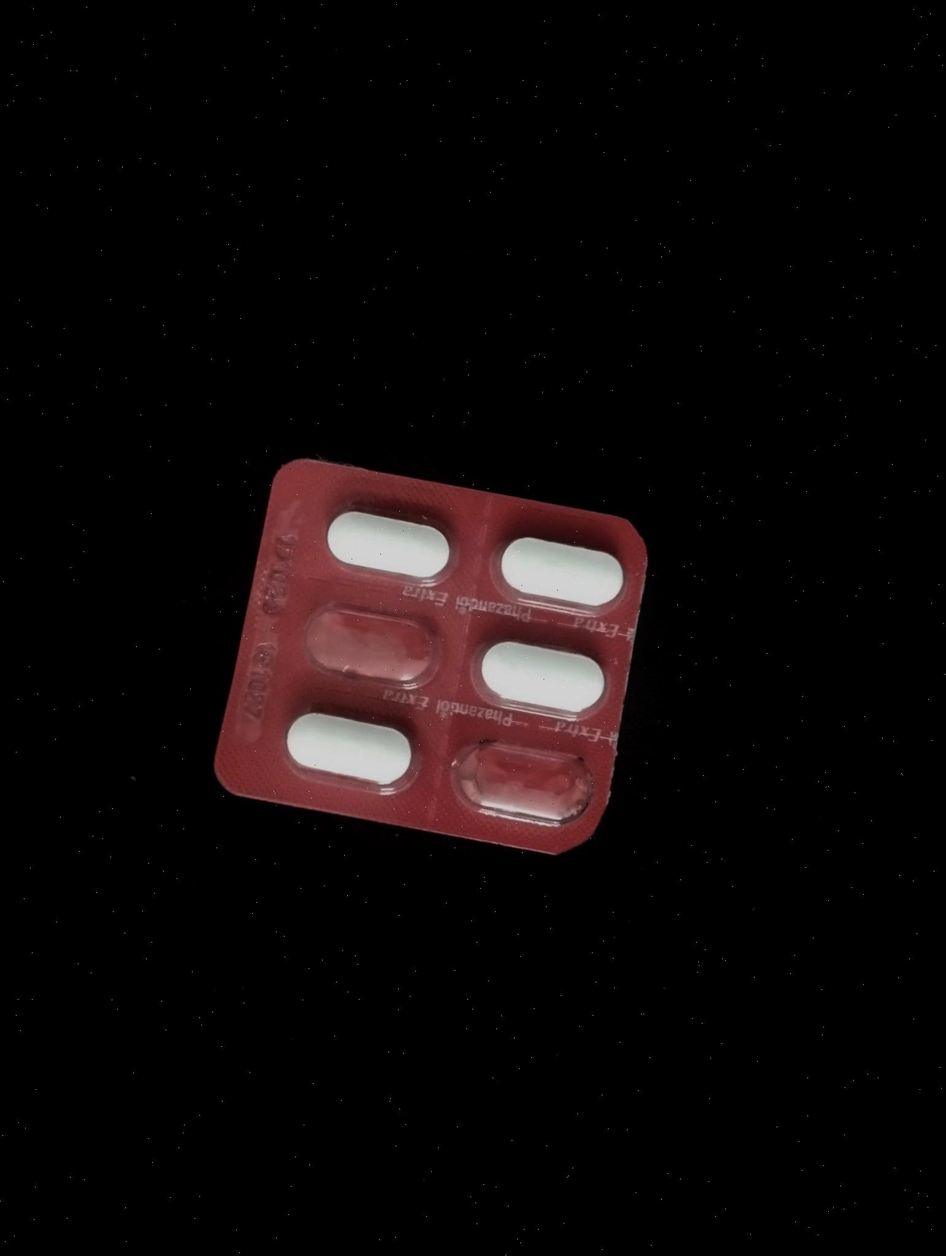Empty: (442, 729, 602, 835), (293, 598, 448, 695)
Full: (471, 629, 620, 728), (272, 694, 418, 794), (488, 528, 634, 618), (318, 499, 465, 586)
